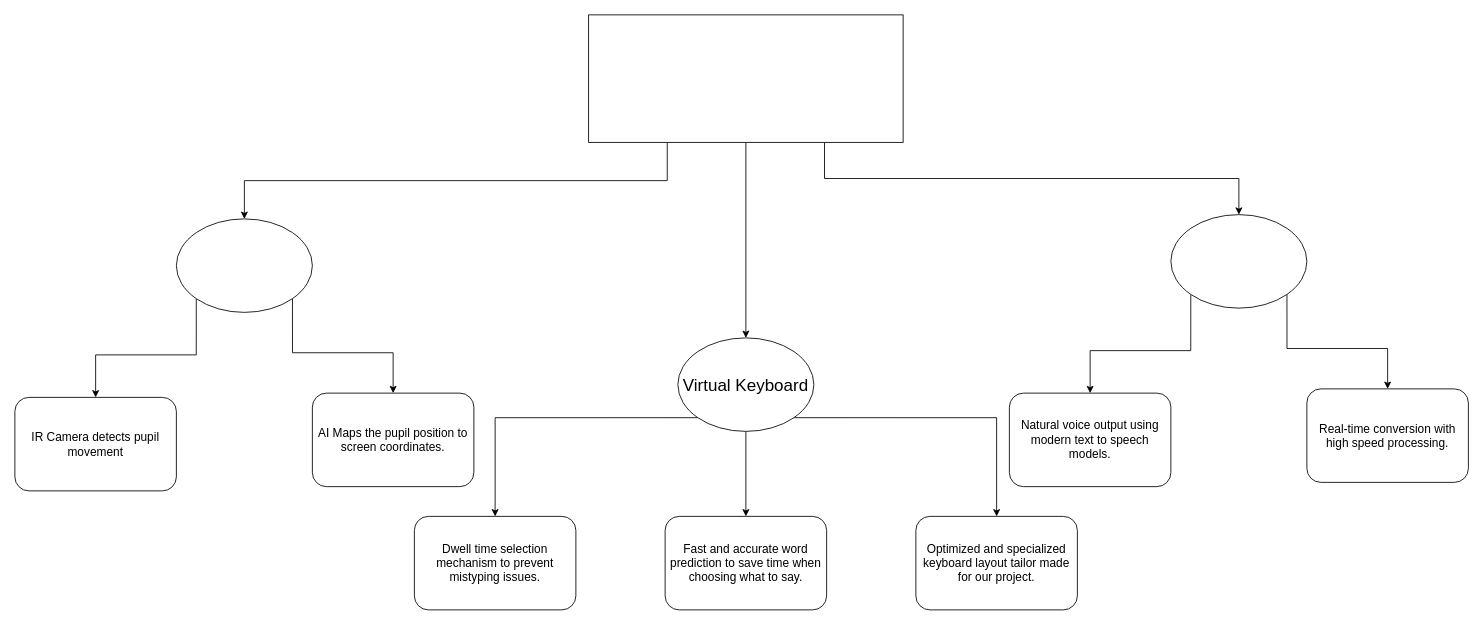
This 1483x625 diagram has some shape labels left out. Here are the shapes that lost their labels. From the top down, the centre of each, then its label:
At pixel 745 78: "Project Architecture / Block Diagram".
At pixel 244 265: "Eye Tracking".
At pixel 1238 261: "Text to speech".
